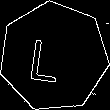L_N: (35, 30, 73, 84)
